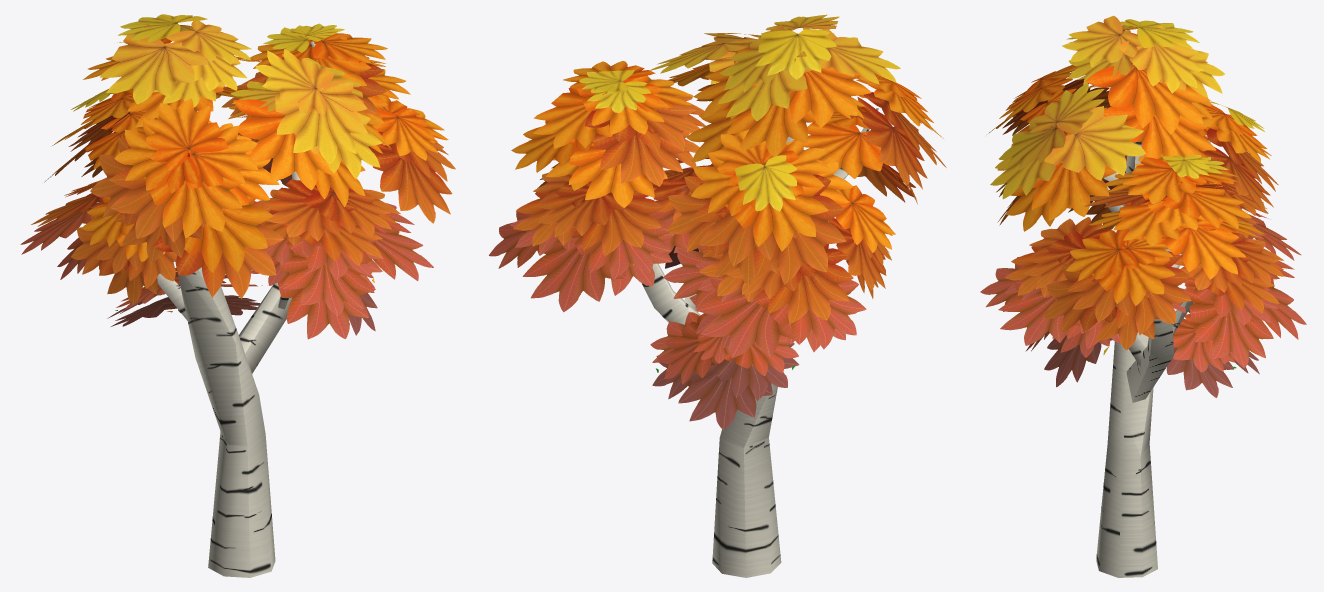
File: VEG0210007.fbx
3 renders of one model, left to right at view 1: azimuth 30°, elevation 25°; view 2: azimuth 150°, elevation 25°; view 3: azimuth 270°, elevation 25°, orthographic. The views are drawn at different scales.
Visible parts, largest first — view 1: smVEG0210007; view 2: smVEG0210007; view 3: smVEG0210007.
Boxes of the visible parts, x1,y1,x2,y2 form: smVEG0210007: (20, 14, 455, 577); smVEG0210007: (489, 14, 946, 577); smVEG0210007: (980, 15, 1306, 577).
Size of the model in its own units: 372 by 510 by 299.
2 materials, 2 textured.
